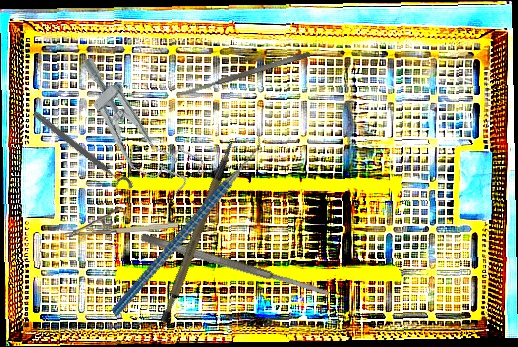Chopper: (69, 127, 305, 317)
Fixation Ring: (26, 108, 135, 199)
Needle Holder: (62, 204, 179, 237)
Scalpel Handle: (137, 138, 263, 326)
Spatula Surgical: (140, 231, 331, 300), (175, 50, 311, 99)
Speculum: (57, 48, 210, 207)
